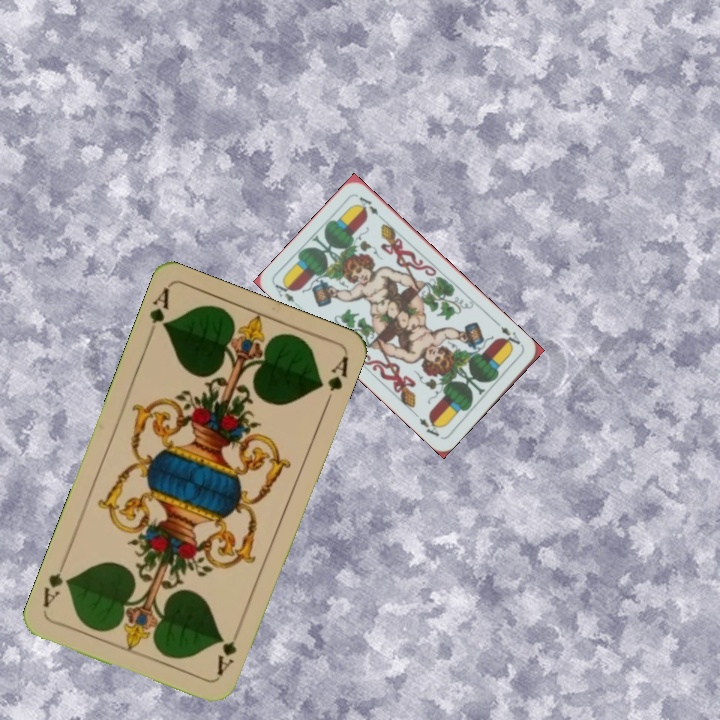EA: (492, 318, 526, 351), (271, 276, 297, 305)
GA: (213, 623, 244, 678), (143, 284, 172, 342)
